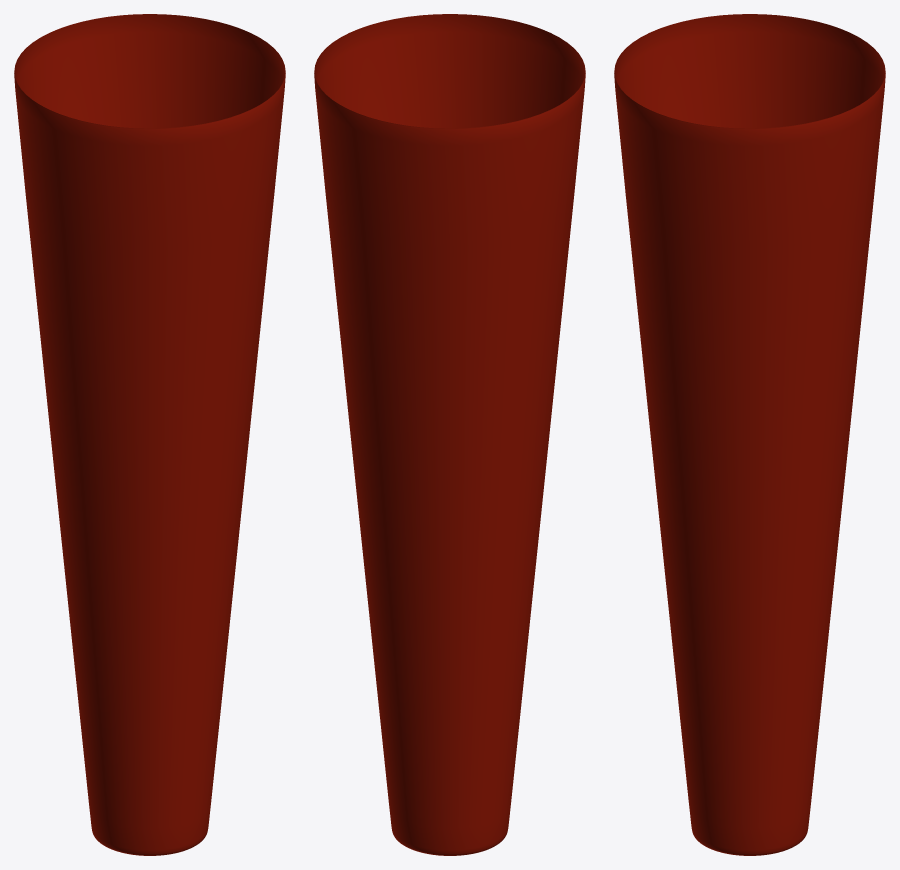
Rendered from TVXQ_01.glb.
3 views of the same model, side by side, from view 1: azimuth 30°, elevation 25°; view 2: azimuth 150°, elevation 25°; view 3: azimuth 270°, elevation 25° (orthographic).
Size of the model in its own units: 0.1116 by 0.3458 by 0.1116.
1 material, 1 textured.
